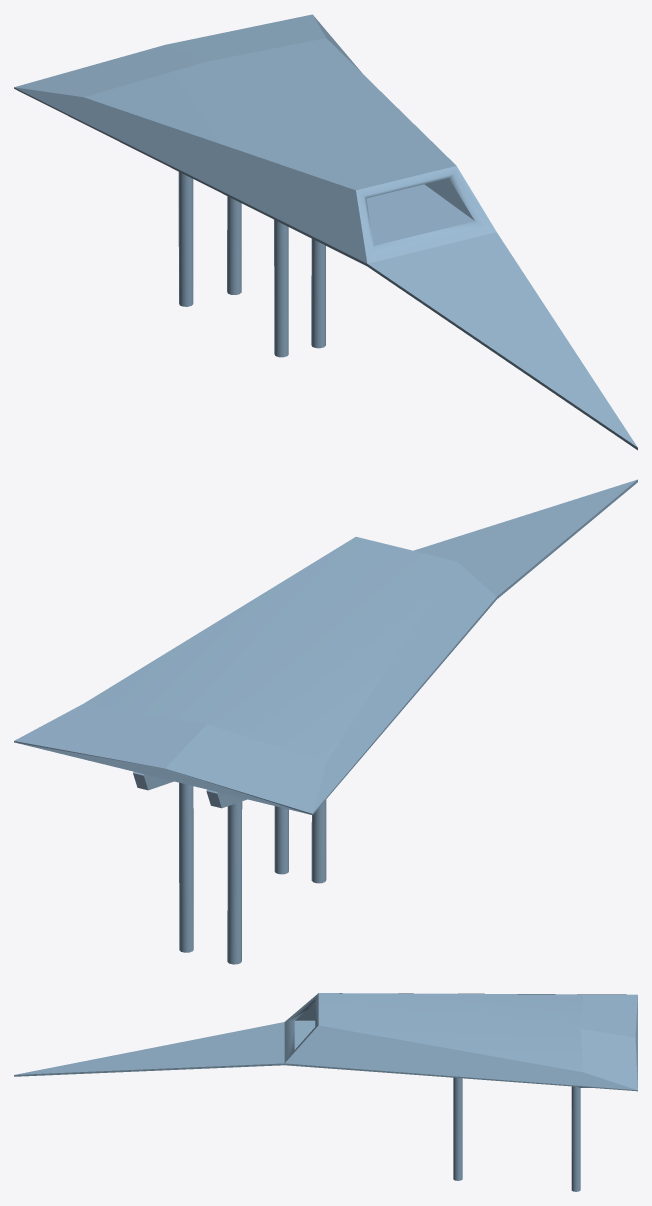
Rendered from air intake.FBX.
The picture shows the model from 3 angles, top to bottom: view 1: azimuth 30°, elevation 25°; view 2: azimuth 150°, elevation 25°; view 3: azimuth 270°, elevation 25°; orthographic projection. The views are drawn at different scales.
Visible parts, largest first — view 1: air intake_ncl1_2; view 2: air intake_ncl1_2; view 3: air intake_ncl1_2.
Part boxes in pixels (x1,y1,x2,y2): air intake_ncl1_2: (14,14,637,450); air intake_ncl1_2: (14,479,637,964); air intake_ncl1_2: (14,993,637,1191).
Size of the model in its own units: 0.0467 by 0.1286 by 0.0394.
